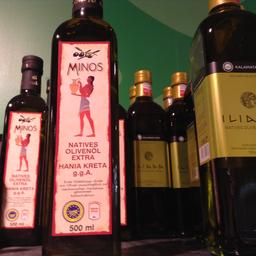oil: (43, 0, 120, 254), (188, 0, 254, 255), (122, 68, 178, 236), (1, 54, 42, 246)
